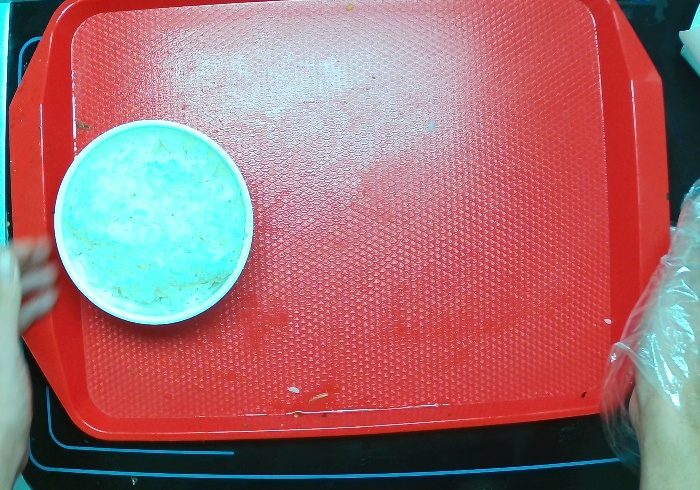YKMZ-Fan_Wan: (49, 117, 254, 330)
